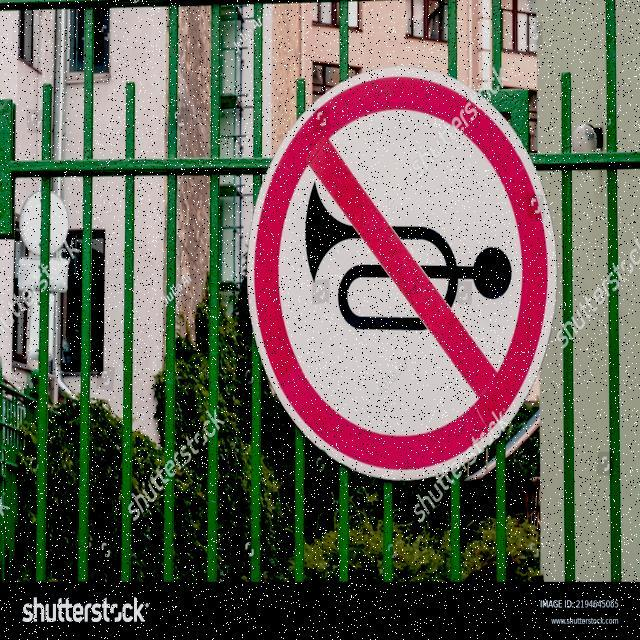Traffic sign: (240, 59, 563, 485)
